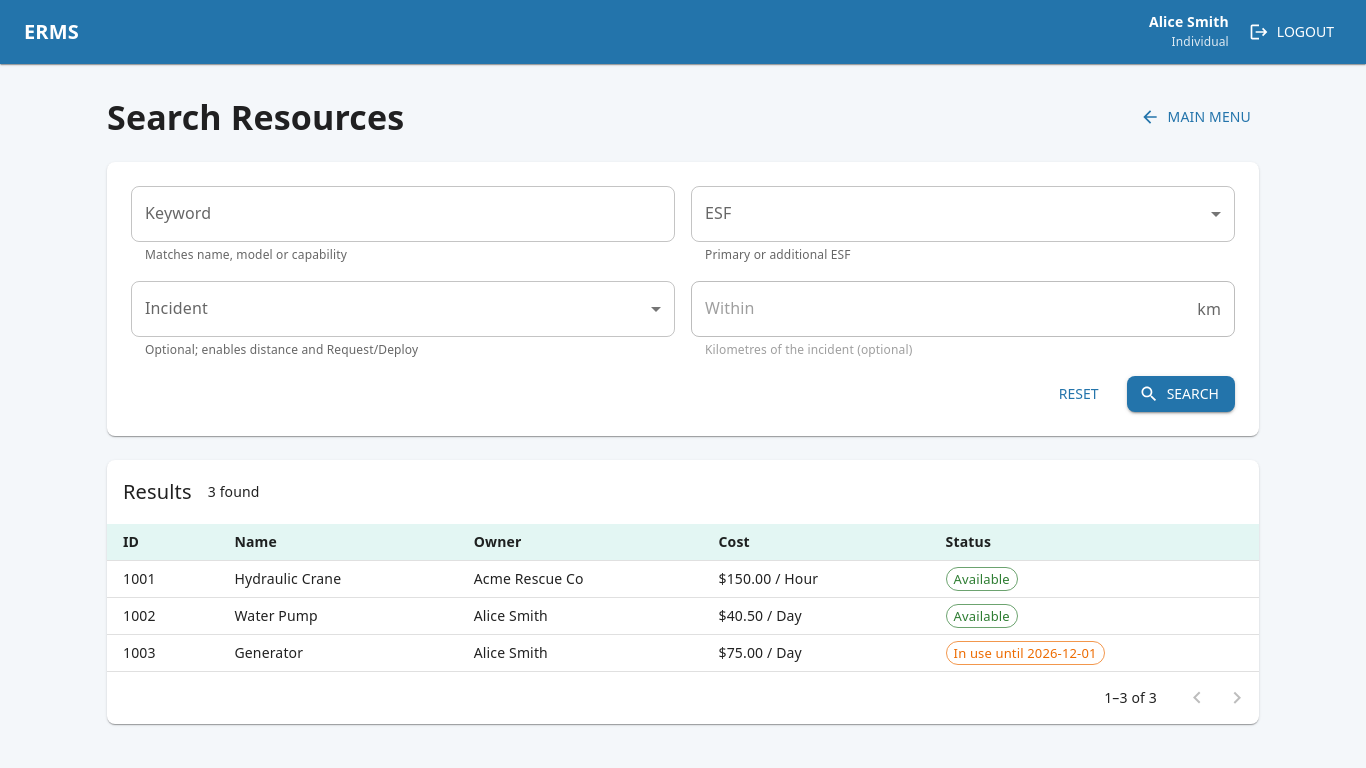
Test: SearchResourcesPage › shows Deploy for my available resource and Request otherwise
Check: the column heading "Hydraulic Crane" is shown, box x1=218 y1=561 x2=458 y2=598
Click the 2nd dropdown named "incident" at (403, 309), box x1=131 y1=281 x2=675 y2=337
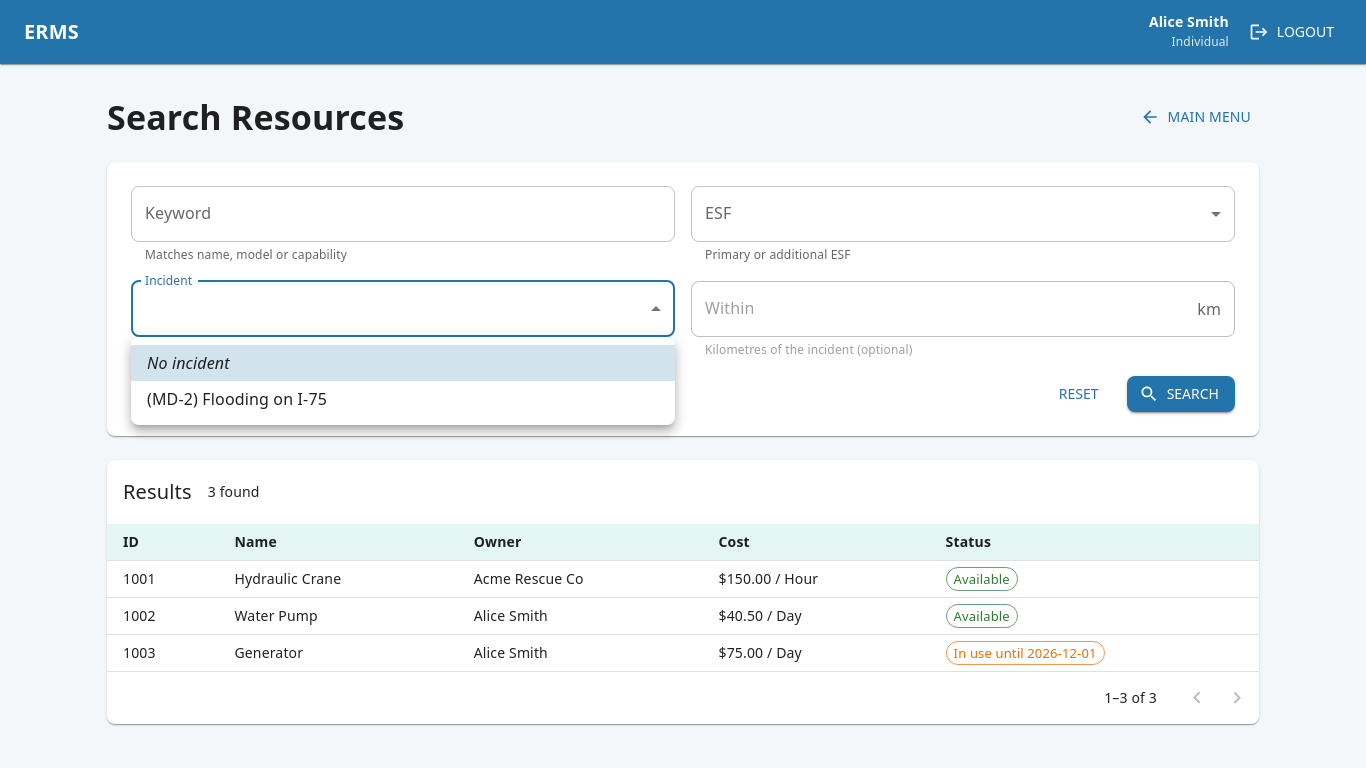
Click the option "(MD-2) Flooding on I-75" at (237, 399), box x1=147 y1=388 x2=327 y2=410
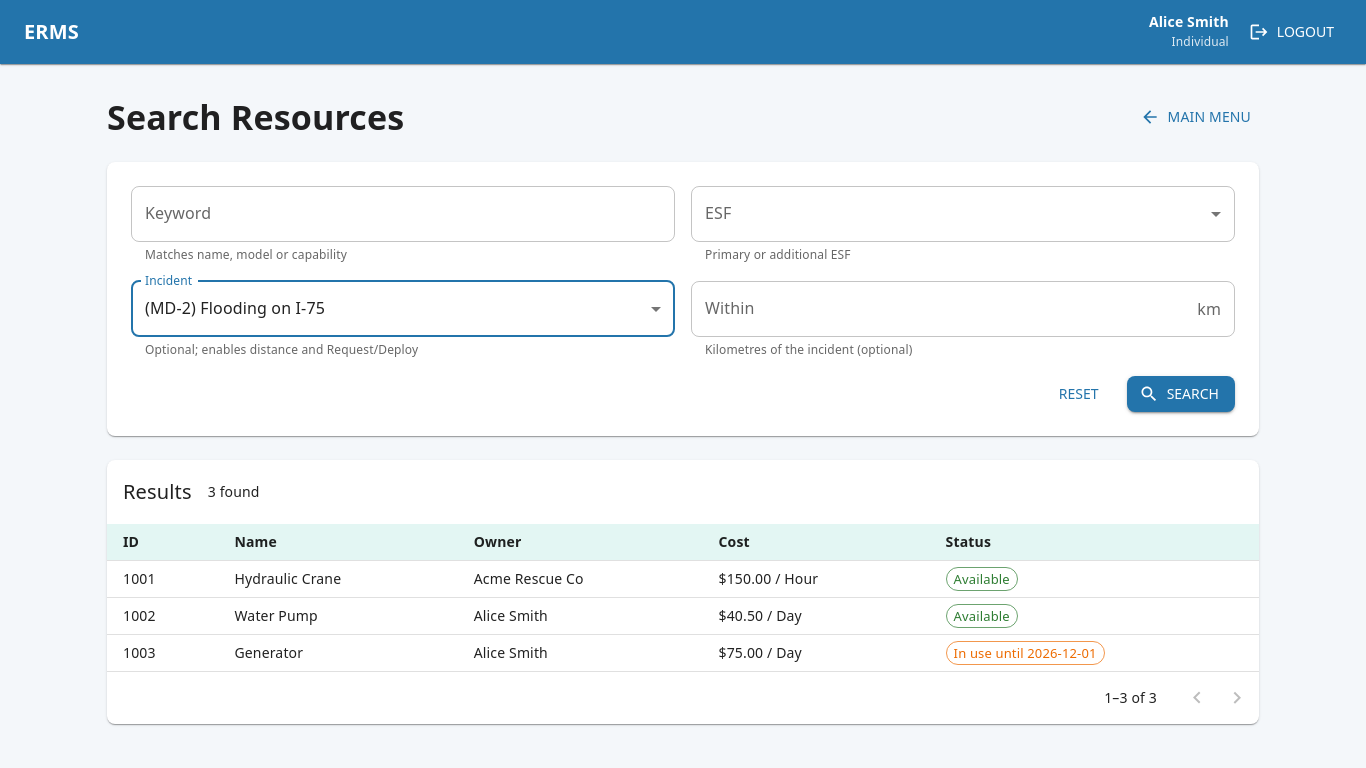
Click the button "Search" at (1181, 394), box x1=1127 y1=376 x2=1235 y2=412
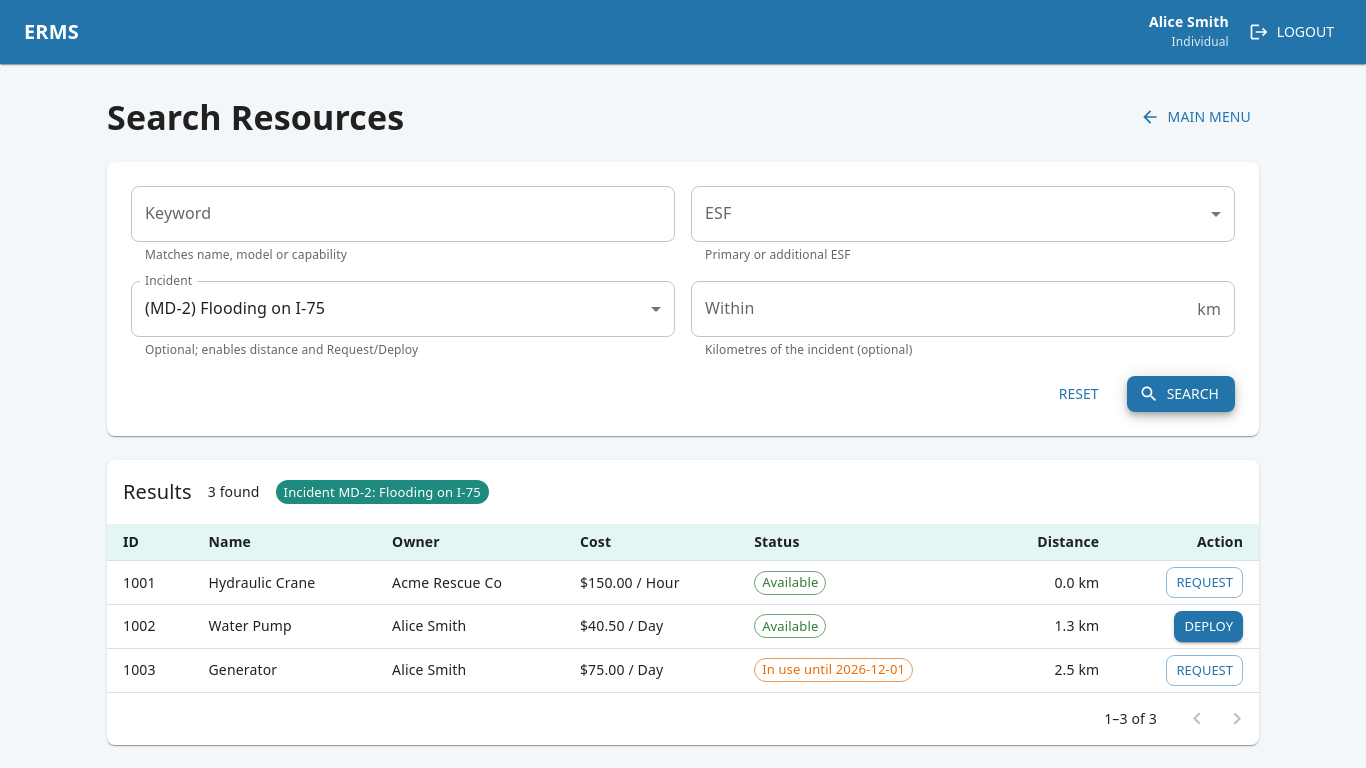
Check: the column heading "Action" is shown, box x1=1115 y1=524 x2=1259 y2=561
Check: the button with aria-label "Request Hydraulic Crane" is shown, box x1=1166 y1=567 x2=1243 y2=598
Check: the button with aria-label "Deploy Water Pump" is shown, box x1=1174 y1=611 x2=1243 y2=642
